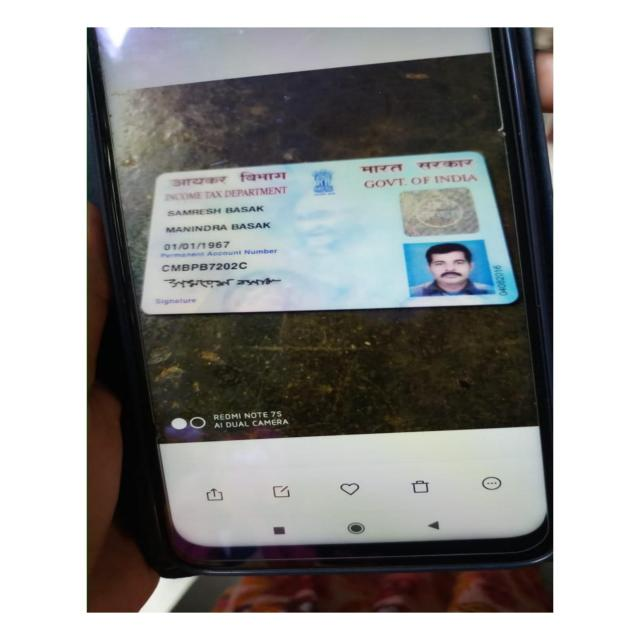pan_card: (137, 150, 516, 314)
